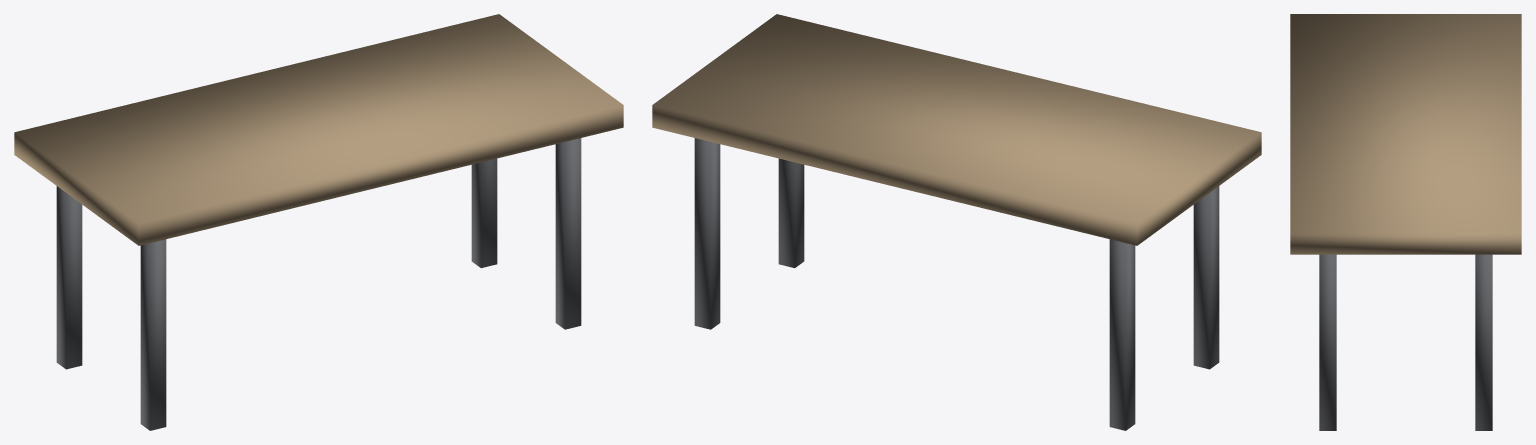
File: library_reading_table.glb
3 views of the same model, side by side, from view 1: azimuth 30°, elevation 25°; view 2: azimuth 150°, elevation 25°; view 3: azimuth 270°, elevation 25° (orthographic). The views are drawn at different scales.
Visible parts, largest first — view 1: world; view 2: world; view 3: world.
Part boxes in pixels (<box>): world: <box>14,14,623,430</box>; world: <box>652,14,1261,430</box>; world: <box>1290,14,1521,430</box>.
Bounding box in the file's own units: 1.8 × 0.8 × 0.8.
